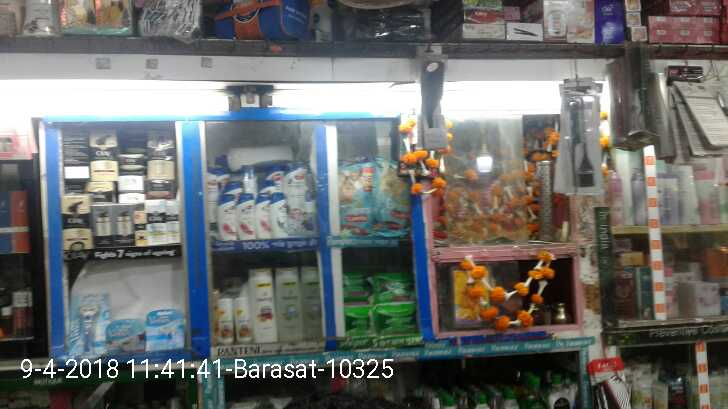venus: (70, 293, 104, 354), (147, 311, 184, 346), (106, 319, 144, 351)
